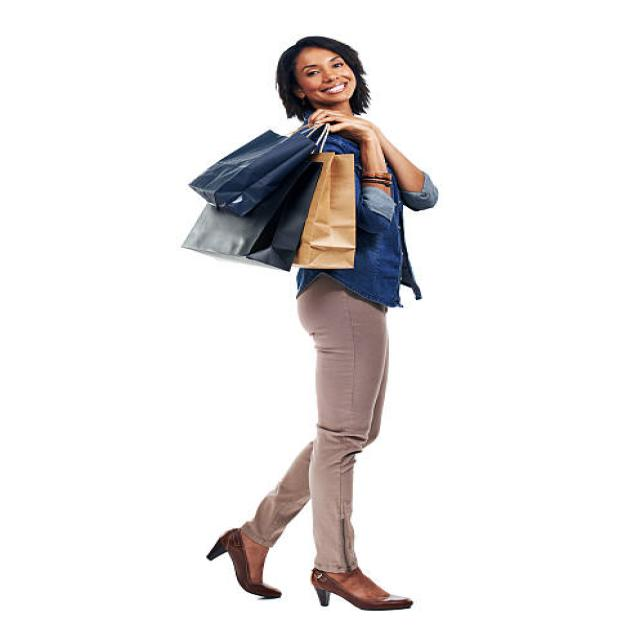Edited images: (177, 25, 489, 622)
